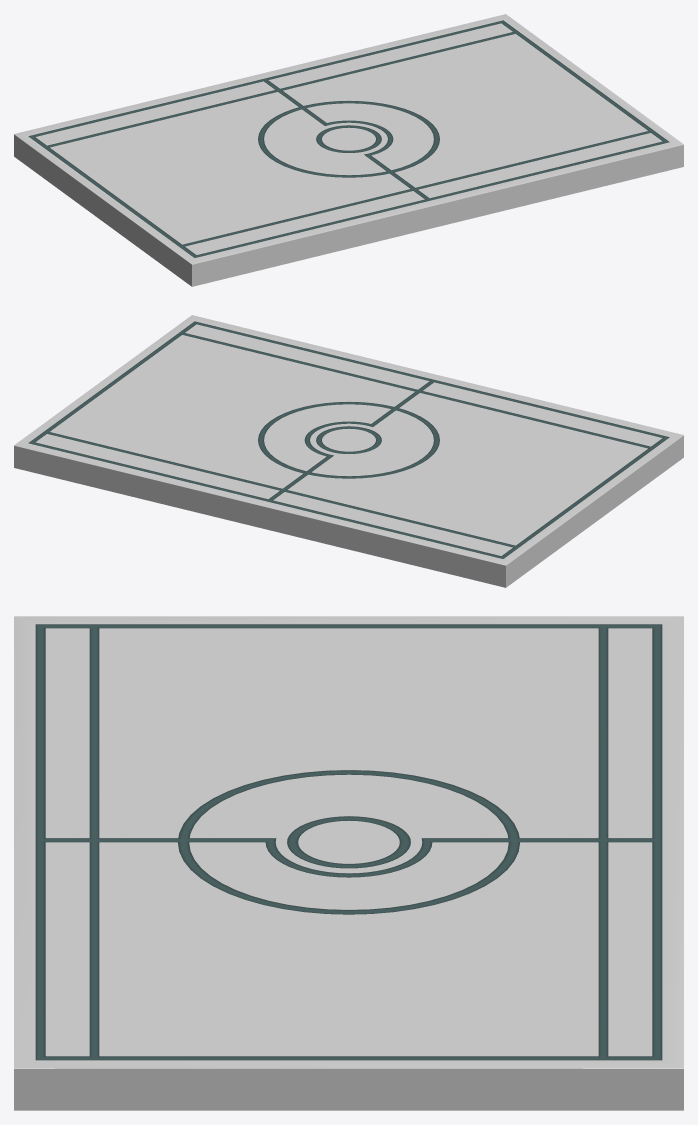
File: objects_un_dlc2_court01_boss03.gltf
3 views of the same model, one above another, from view 1: azimuth 30°, elevation 25°; view 2: azimuth 150°, elevation 25°; view 3: azimuth 270°, elevation 25° (orthographic). The views are drawn at different scales.
Parts seen in each view (by area): view 1: court_floor_shape:dlc2_court01_01_boss03, nomerge_court_linelight01_shape:objects_un_dlc2_court01_line; view 2: court_floor_shape:dlc2_court01_01_boss03, nomerge_court_linelight01_shape:objects_un_dlc2_court01_line; view 3: court_floor_shape:dlc2_court01_01_boss03, nomerge_court_linelight01_shape:objects_un_dlc2_court01_line.
Part boxes in pixels (x1=…): court_floor_shape:dlc2_court01_01_boss03: x1=14, y1=14, x2=683, y2=286; nomerge_court_linelight01_shape:objects_un_dlc2_court01_line: x1=28, y1=20, x2=669, y2=257; court_floor_shape:dlc2_court01_01_boss03: x1=14, y1=315, x2=683, y2=587; nomerge_court_linelight01_shape:objects_un_dlc2_court01_line: x1=28, y1=321, x2=669, y2=558; court_floor_shape:dlc2_court01_01_boss03: x1=14, y1=616, x2=683, y2=1110; nomerge_court_linelight01_shape:objects_un_dlc2_court01_line: x1=35, y1=624, x2=662, y2=1060.
Size of what is drawn, in the model's own units: 23.38 by 1.02 by 14.66.
Materials: 2 (1 with a texture image).
